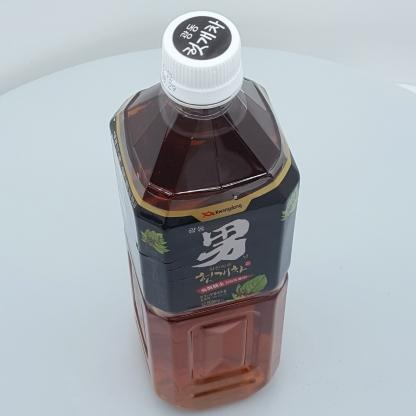----------1L: (110, 10, 299, 410)
